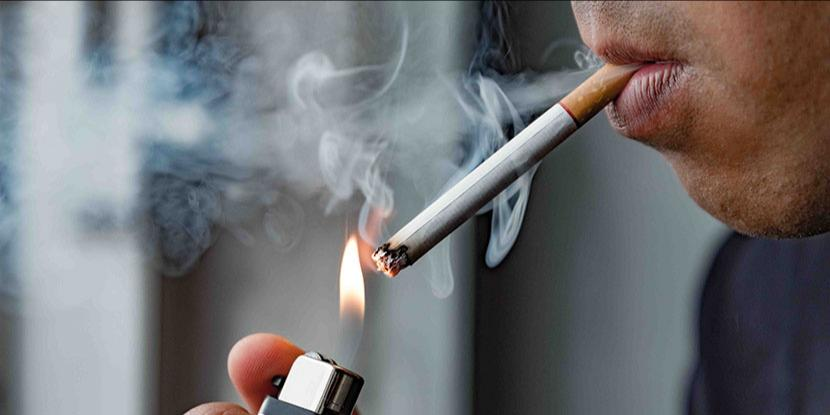Cigarette: (372, 62, 632, 278)
Smoke: (4, 56, 527, 251)
